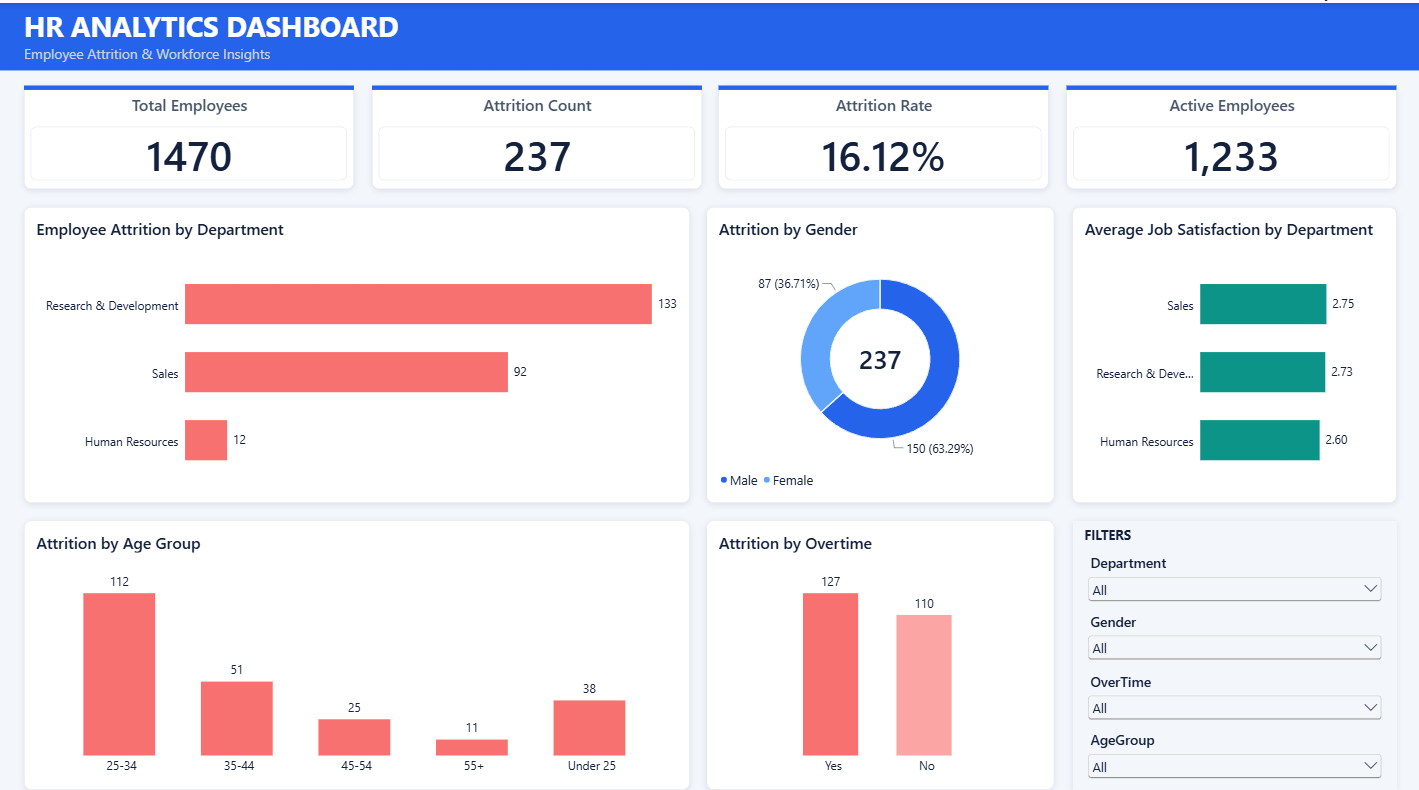

The dashboard page shown, as its layout file describes it:
{"tool":"powerbi","page":{"name":"Page 1","canvas":[1920,1080],"ordinal":0},"visuals":[{"type":"cardVisual","title":"Total Employees","fields":{"Data":["HR-Data.Total Employees"]},"box":[32,112,446,140],"z":0},{"type":"shape","box":[0,0,1920,88],"z":10},{"type":"shape","box":[0,88,1920,4],"z":11},{"type":"shape","box":[1450,700,438,364],"z":100},{"type":"cardVisual","title":"Attrition Count","fields":{"Data":["HR-Data.Attribution Count"]},"box":[502,112,446,140],"z":1000},{"type":"cardVisual","title":"Attrition Rate","fields":{"Data":["HR-Data.Attribution Rate"]},"box":[972,112,446,140],"z":2000},{"type":"cardVisual","title":"Active Employees","fields":{"Data":["HR-Data.Active Employees"]},"box":[1442,112,446,140],"z":3000},{"type":"textbox","box":[32,6,1000,76],"z":4000},{"type":"clusteredBarChart","title":"Employee Attrition by Department","fields":{"Category":["HR-Data.Department"],"Y":["HR-Data.Attribution Count"]},"box":[32,276,900,400],"z":6000},{"type":"clusteredColumnChart","title":"Attrition by Age Group","fields":{"Category":["HR-Data.AgeGroup"],"Y":["HR-Data.Attribution Count"]},"box":[32,700,900,364],"z":7000},{"type":"donutChart","title":"Attrition by Gender","fields":{"Category":["HR-Data.Gender"],"Y":["HR-Data.Attribution Count"]},"box":[956,276,470,400],"z":7001},{"type":"clusteredColumnChart","title":"Attrition by Overtime","fields":{"Category":["HR-Data.OverTime"],"Y":["HR-Data.Attribution Count"]},"box":[956,700,470,364],"z":7002},{"type":"clusteredBarChart","title":"Average Job Satisfaction by Department","fields":{"Category":["HR-Data.Department"],"Y":["HR-Data.Average Job Satisfaction"]},"box":[1450,276,438,400],"z":7003},{"type":"slicer","fields":{"Values":["HR-Data.Department"]},"box":[1466,744,406,72],"z":7004},{"type":"slicer","fields":{"Values":["HR-Data.Gender"]},"box":[1466,824,406,72],"z":7005},{"type":"slicer","fields":{"Values":["HR-Data.OverTime"]},"box":[1466,904,406,72],"z":7006},{"type":"slicer","fields":{"Values":["HR-Data.AgeGroup"]},"box":[1466,984,406,72],"z":7007},{"type":"textbox","box":[1466,708,300,32],"z":7010},{"type":"shape","box":[32,112,446,6],"z":8000},{"type":"shape","box":[502,112,446,6],"z":8001},{"type":"shape","box":[972,112,446,6],"z":8002},{"type":"shape","box":[1442,112,446,6],"z":8003}]}

Visuals, with their boxes in screenshot pixels (x1, y1, x2, y2), scaled from the page's 1920x1080 canvas onto the 1419x790 screenshot:
"Total Employees" cardVisual: 24/82/353/184
shape: 0/0/1418/64
shape: 0/64/1418/67
shape: 1072/512/1395/778
"Attrition Count" cardVisual: 371/82/701/184
"Attrition Rate" cardVisual: 718/82/1048/184
"Active Employees" cardVisual: 1066/82/1395/184
textbox: 24/4/763/60
"Employee Attrition by Department" clusteredBarChart: 24/202/689/494
"Attrition by Age Group" clusteredColumnChart: 24/512/689/778
"Attrition by Gender" donutChart: 707/202/1054/494
"Attrition by Overtime" clusteredColumnChart: 707/512/1054/778
"Average Job Satisfaction by Department" clusteredBarChart: 1072/202/1395/494
slicer - HR-Data.Department: 1083/544/1384/597
slicer - HR-Data.Gender: 1083/603/1384/655
slicer - HR-Data.OverTime: 1083/661/1384/714
slicer - HR-Data.AgeGroup: 1083/720/1384/772
textbox: 1083/518/1305/541
shape: 24/82/353/86
shape: 371/82/701/86
shape: 718/82/1048/86
shape: 1066/82/1395/86
